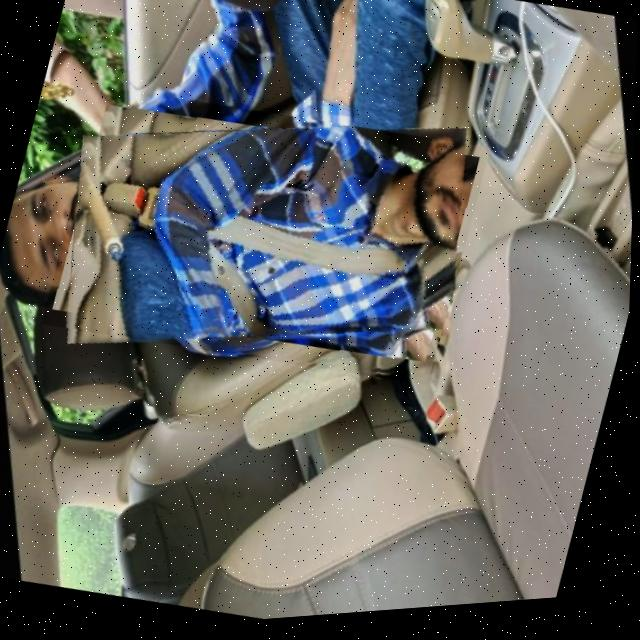seatbelt: (41, 64, 493, 414)
